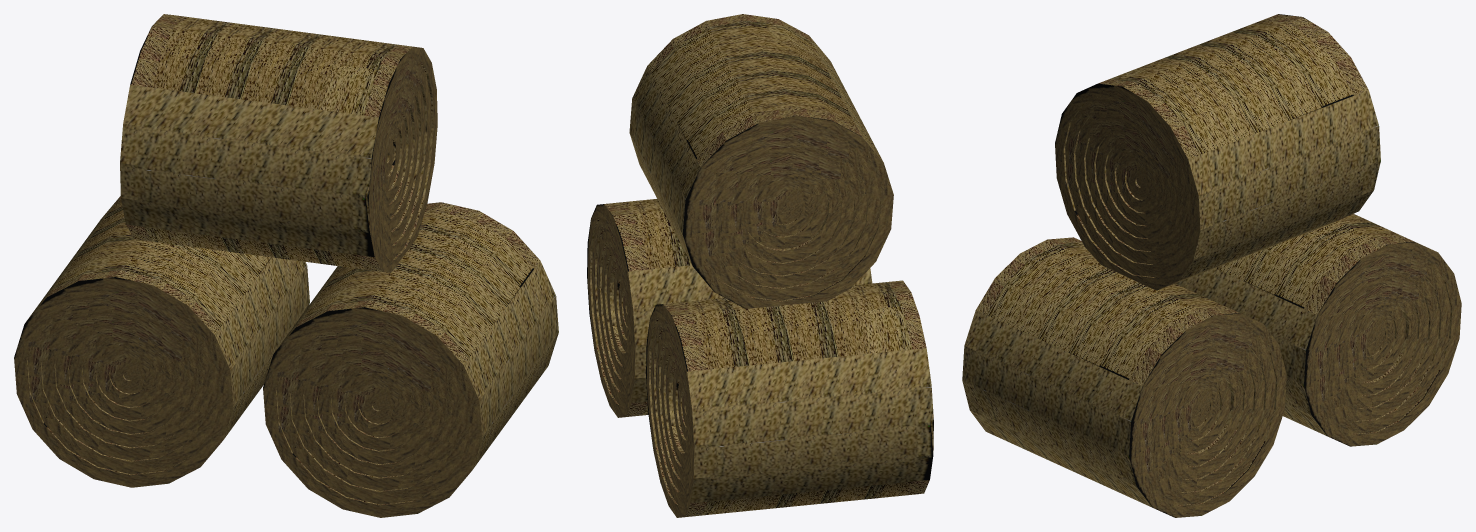
Rendered from hay_bales.glb.
3 renders of one model, left to right at view 1: azimuth 30°, elevation 25°; view 2: azimuth 150°, elevation 25°; view 3: azimuth 270°, elevation 25°, orthographic. The views are drawn at different scales.
Parts seen in each view (by area): view 1: Cylinder003, Cylinder002, Cylinder001; view 2: Cylinder001, Cylinder003, Cylinder002; view 3: Cylinder003, Cylinder002, Cylinder001.
Part boxes in pixels (x1,y1,x2,y2): Cylinder003: (120,14,437,272); Cylinder002: (263,202,558,517); Cylinder001: (14,196,309,487); Cylinder001: (646,280,933,517); Cylinder003: (629,14,893,308); Cylinder002: (587,199,872,417); Cylinder003: (1055,14,1380,290); Cylinder002: (962,237,1286,517); Cylinder001: (1175,214,1461,446).
Bounding box in the file's own units: 46.06 × 39.43 × 46.49.
1 material, 1 textured.
